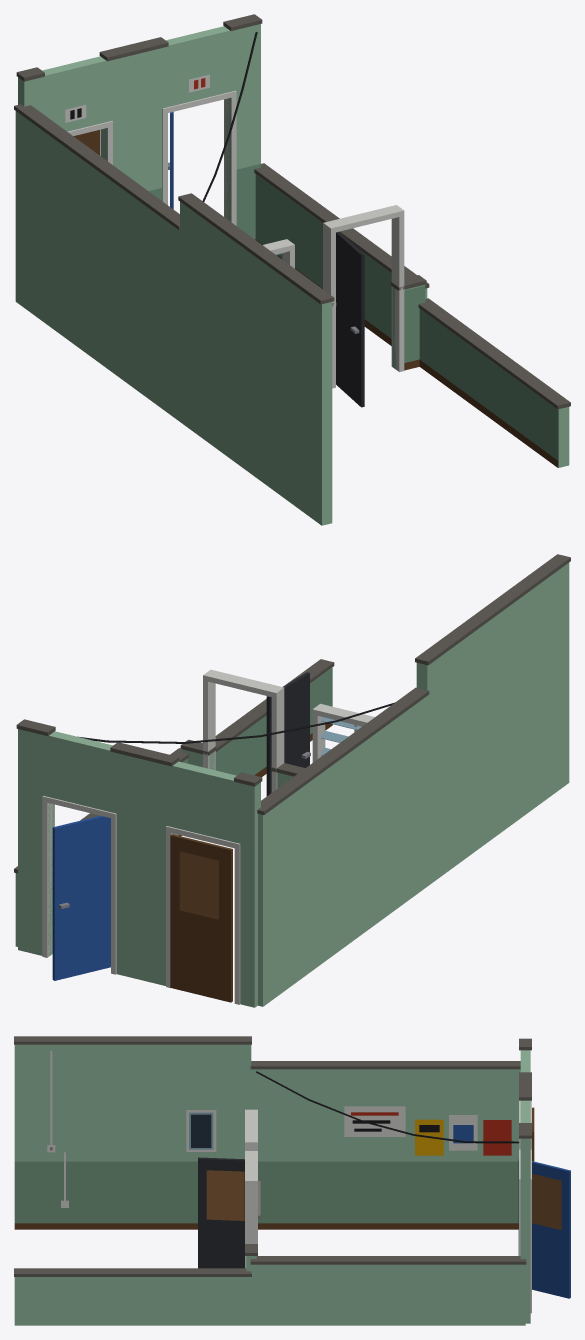
File: bld_home-hostel.glb
The picture shows the model from 3 angles, top to bottom: view 1: azimuth 30°, elevation 25°; view 2: azimuth 150°, elevation 25°; view 3: azimuth 270°, elevation 25°; orthographic projection. The views are drawn at different scales.
Visible parts, largest first — view 1: body; view 2: body; view 3: body.
Part boxes in pixels (box(x1,y1,x2,y2)): body: box(14, 14, 570, 525); body: box(14, 554, 570, 1007); body: box(14, 1036, 570, 1325).
Bounding box in the file's own units: 3.54 × 3.05 × 8.18.
